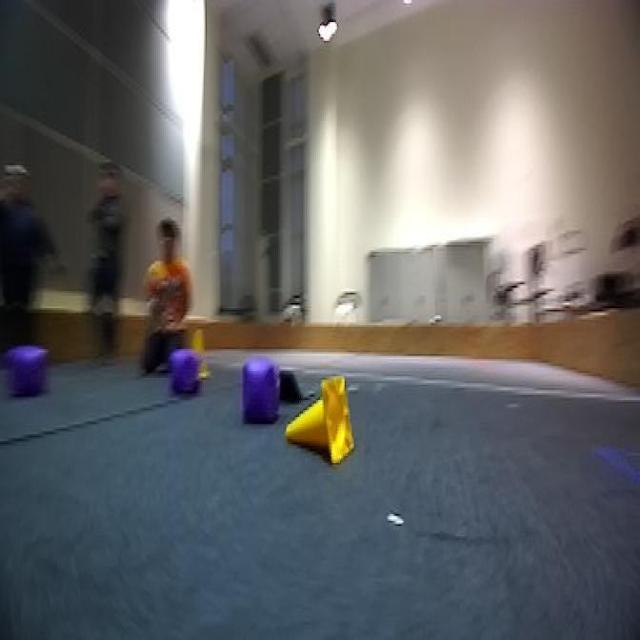frc_cone: (289, 376, 361, 466), (180, 325, 212, 356)
frc_cube: (6, 339, 48, 400), (241, 361, 281, 424), (169, 351, 198, 400)
